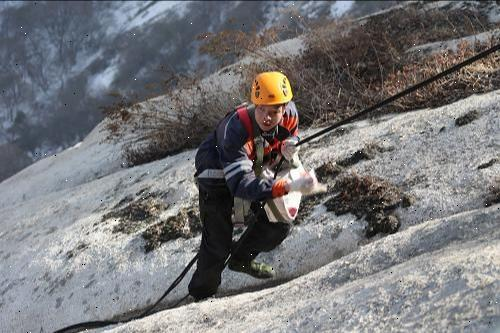helmet: (250, 68, 297, 106)
wear: (197, 106, 297, 194)
